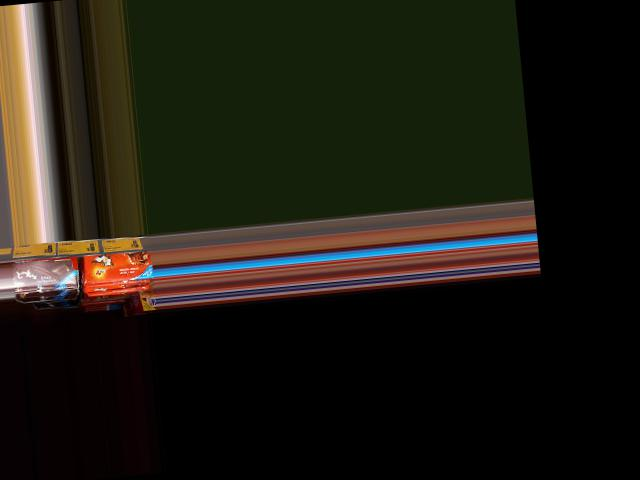chocolate: (9, 249, 74, 293)
